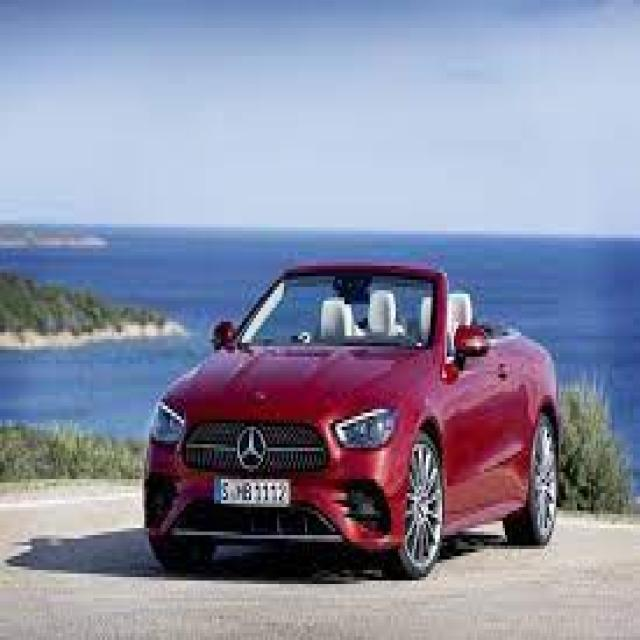Car: (139, 246, 565, 578)
